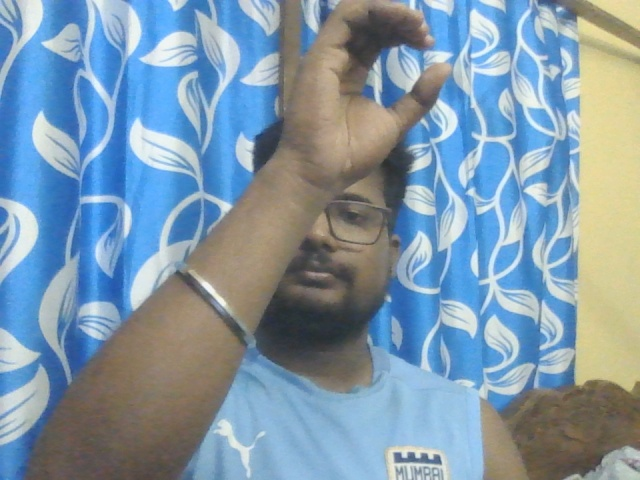C: (292, 1, 449, 177)
